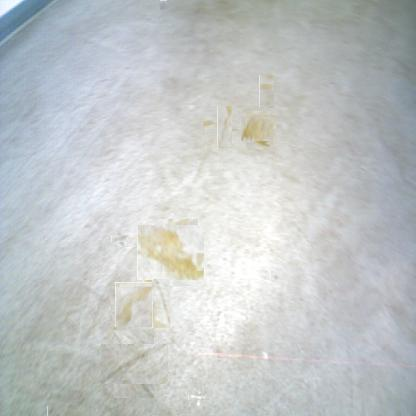liquid: (140, 222, 201, 283), (113, 284, 154, 325), (243, 114, 273, 144), (152, 278, 170, 328), (210, 113, 239, 142), (259, 76, 274, 108), (192, 391, 206, 404)
mark: (107, 337, 161, 391), (114, 232, 126, 245), (159, 0, 168, 10), (271, 272, 280, 281), (47, 406, 54, 416)
